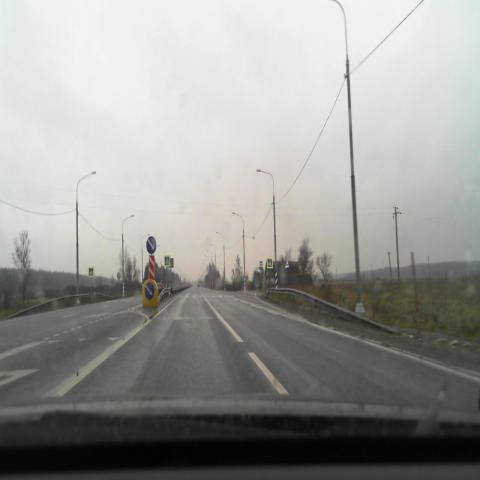4_2_1: (146, 236, 156, 253), (144, 283, 154, 300)
